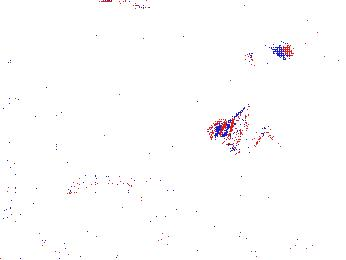X-ray fish: (207, 101, 280, 150), (231, 142, 276, 169)
redtail glassfish: (240, 39, 293, 67)
